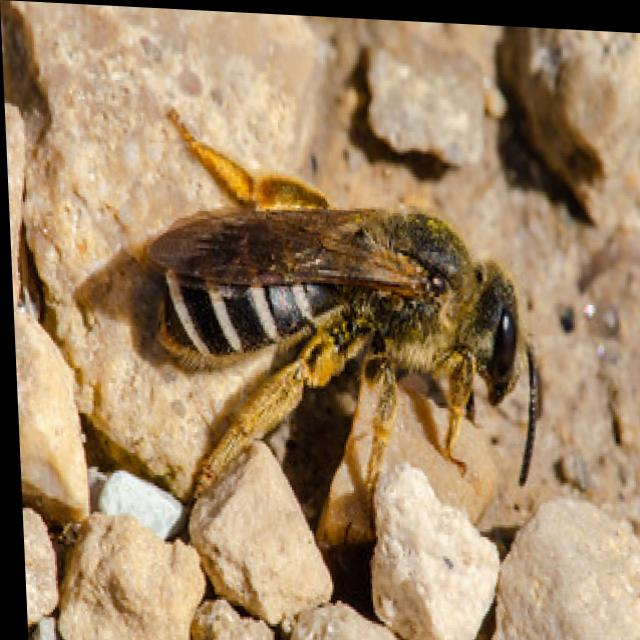Abeille: (85, 82, 592, 558)
